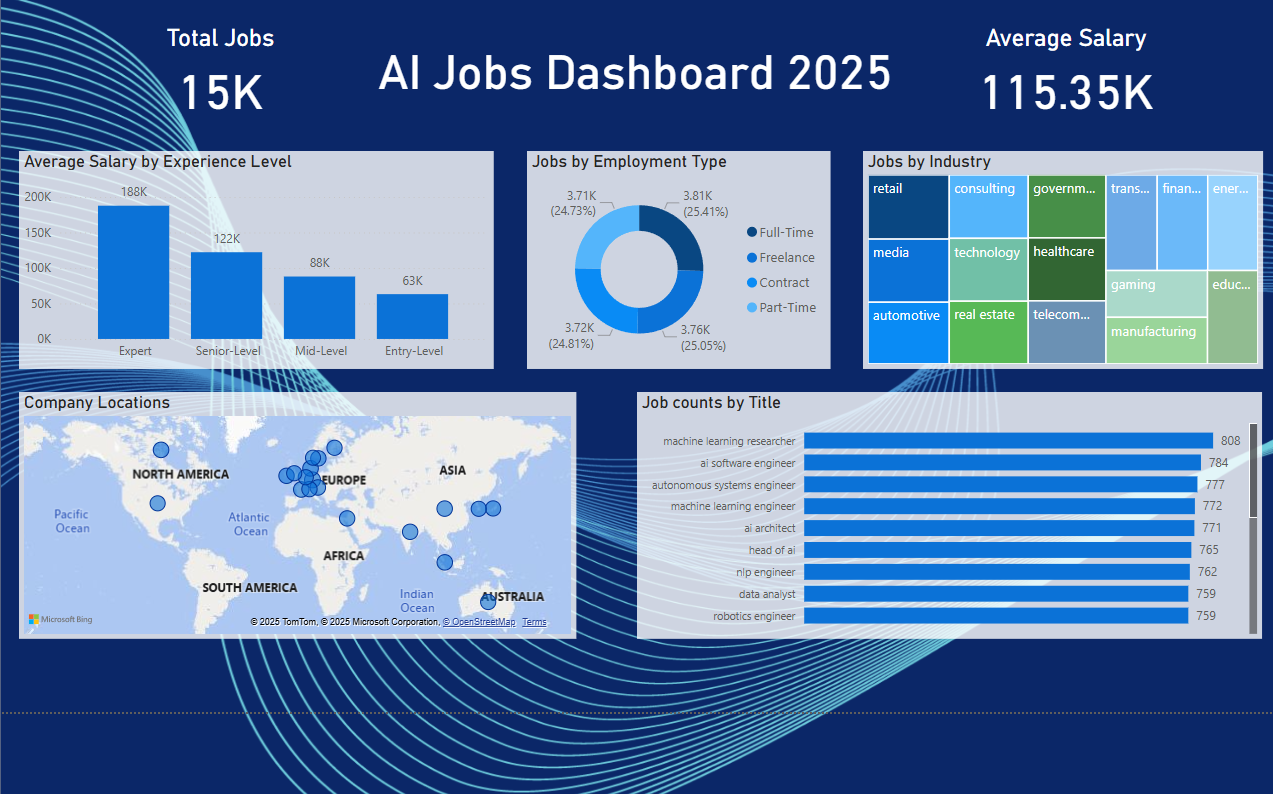

This screenshot's page, from the dashboard's own definition file:
{"tool":"powerbi","page":{"name":"Overview","canvas":[1280,720],"ordinal":0},"visuals":[{"type":"card","title":"Total Jobs","fields":{"Values":["CountNonNull(transformed_ai_jobs_data.job_title)"]},"box":[123.5,29.2,195.5,98.2],"z":0},{"type":"card","title":"Average Salary","fields":{"Values":["Avg(transformed_ai_jobs_data.salary_usd)"]},"box":[965.8,29.2,211.1,98.2],"z":1000},{"type":"clusteredColumnChart","title":"Average Salary by Experience Level","fields":{"Y":["Avg(transformed_ai_jobs_data.salary_usd)"],"Category":["transformed_ai_jobs_data.exp_level_full"]},"box":[19.5,156.6,476.6,218.8],"z":2000},{"type":"map","title":"Company Locations","fields":{"Category":["transformed_ai_jobs_data.company_location"],"Size":["CountNonNull(transformed_ai_jobs_data.company_size)"]},"box":[19.5,398.8,560.2,248],"z":3000},{"type":"donutChart","title":"Jobs by Employment Type","fields":{"Category":["transformed_ai_jobs_data.employment_type_full"],"Y":["CountNonNull(transformed_ai_jobs_data.job_title)"]},"box":[529.1,156.6,305.4,218.8],"z":4000},{"type":"textbox","title":"AI Jobs Dashboard 2025","box":[374.5,49.6,531.1,58.4],"z":5000},{"type":"treemap","title":"Jobs by Industry","fields":{"Group":["transformed_ai_jobs_data.industry"],"Values":["CountNonNull(transformed_ai_jobs_data.job_title)"]},"box":[866.6,156.6,401.7,218.8],"z":6000},{"type":"clusteredBarChart","title":"Job counts by Title","fields":{"Category":["transformed_ai_jobs_data.job_title"],"Y":["CountNonNull(transformed_ai_jobs_data.job_title)"]},"box":[640,398.8,628.3,248],"z":7000}]}

Visuals, with their boxes on the page's 1280x720 design canvas (x1, y1, x2, y2). These are canvas units, not pixel positions in the 1273x794 screenshot, which may show the page scaled, cropped or inside an application window:
"Total Jobs" card: detection(124, 29, 319, 127)
"Average Salary" card: detection(966, 29, 1177, 127)
"Average Salary by Experience Level" clusteredColumnChart: detection(20, 157, 496, 375)
"Company Locations" map: detection(20, 399, 580, 647)
"Jobs by Employment Type" donutChart: detection(529, 157, 834, 375)
"AI Jobs Dashboard 2025" textbox: detection(374, 50, 906, 108)
"Jobs by Industry" treemap: detection(867, 157, 1268, 375)
"Job counts by Title" clusteredBarChart: detection(640, 399, 1268, 647)
